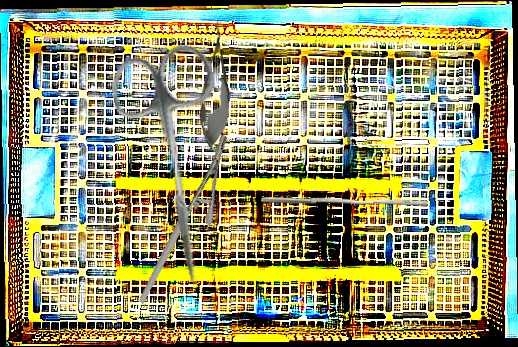Iris Scissors: (106, 40, 249, 294)
Micro Scissor: (196, 19, 235, 151)
Needle Holder: (94, 132, 271, 305)
Pusher: (260, 194, 429, 210)
